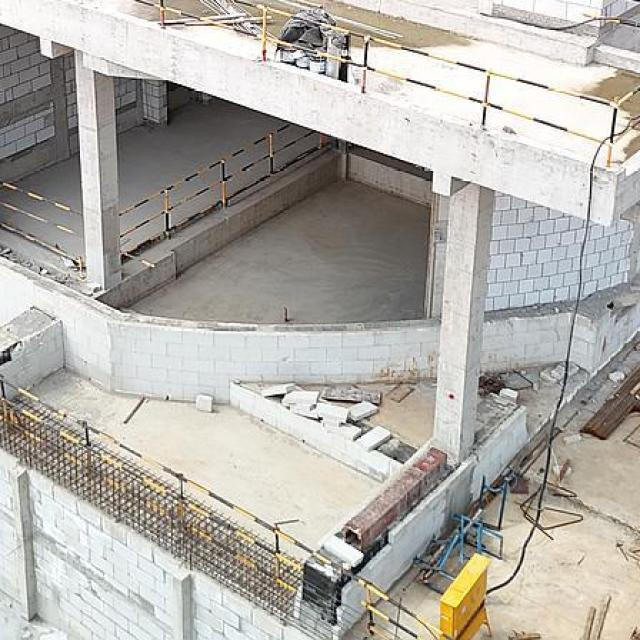edge_guardrail: (0, 373, 453, 640), (130, 0, 640, 167), (113, 121, 321, 270), (0, 180, 84, 265), (583, 12, 640, 29)
